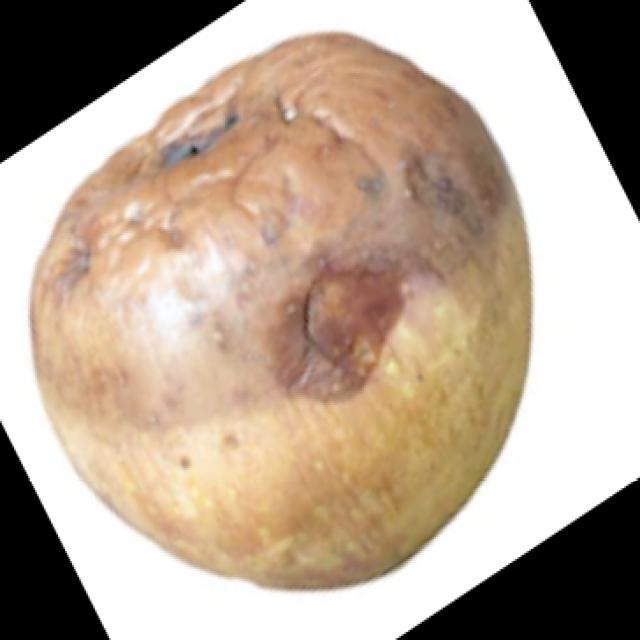Rotten: (43, 30, 540, 602)
